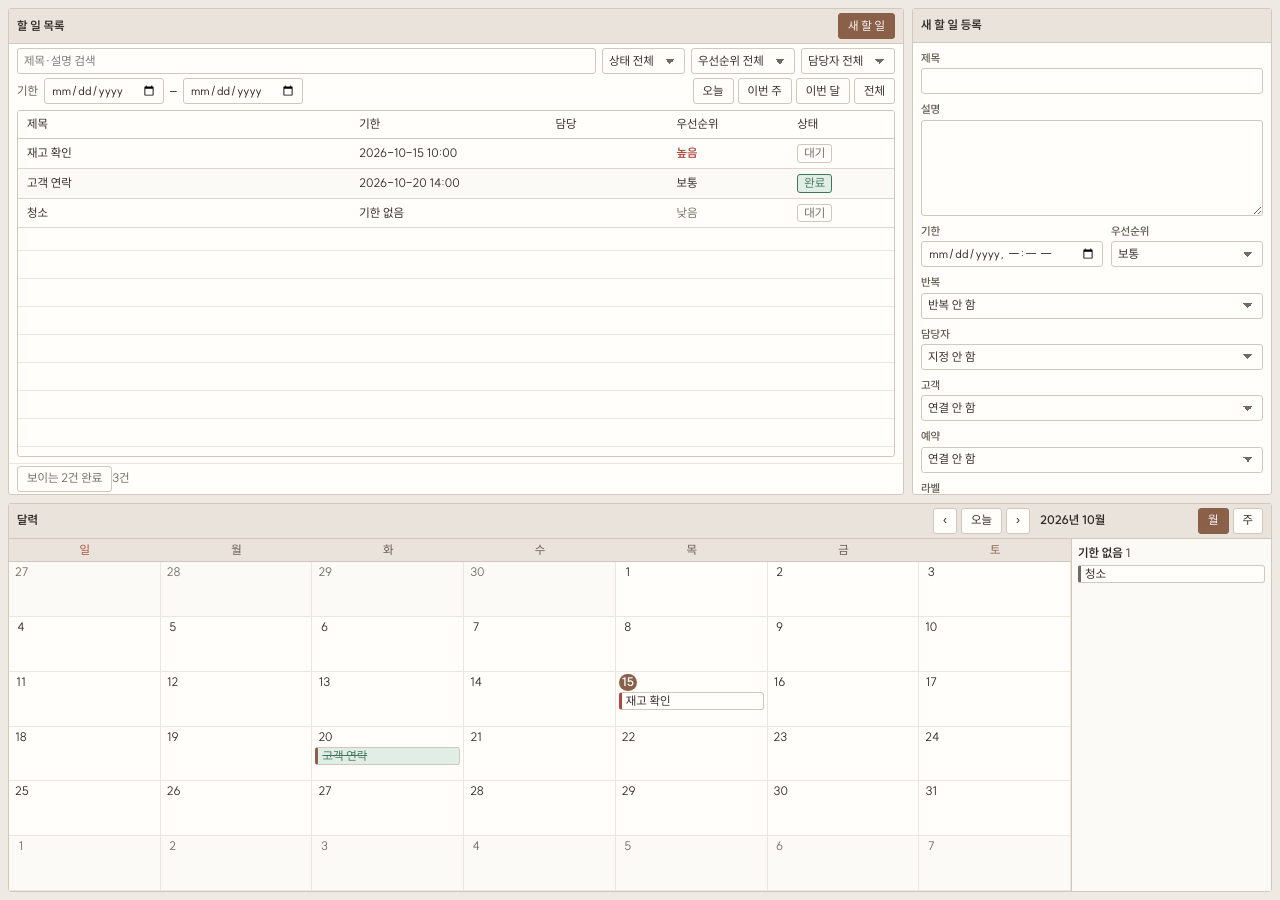
Test: TaskPage 상세 편집 › 작성 중 다른 행을 선택하면 확인을 받고, 취소하면 현재 입력을 유지한다
Check: the text "재고 확인" is shown, box [18,139,350,169]
Type "작성 중" into the field labelled "제목".
click(1092, 81); type("작성 중")  # box [921,68,1263,94]
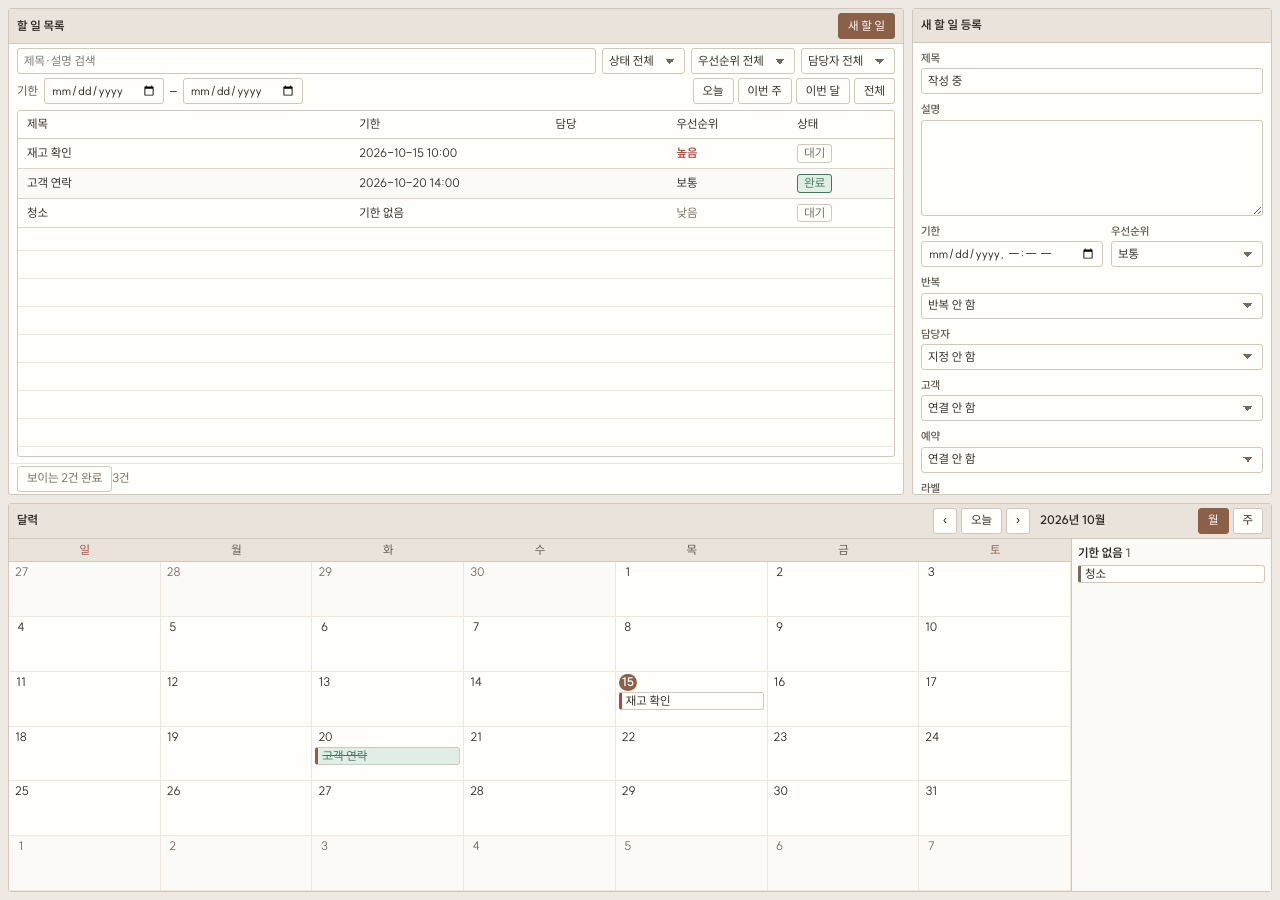
Click the text "청소".
click(184, 214)  # box [18,199,350,228]
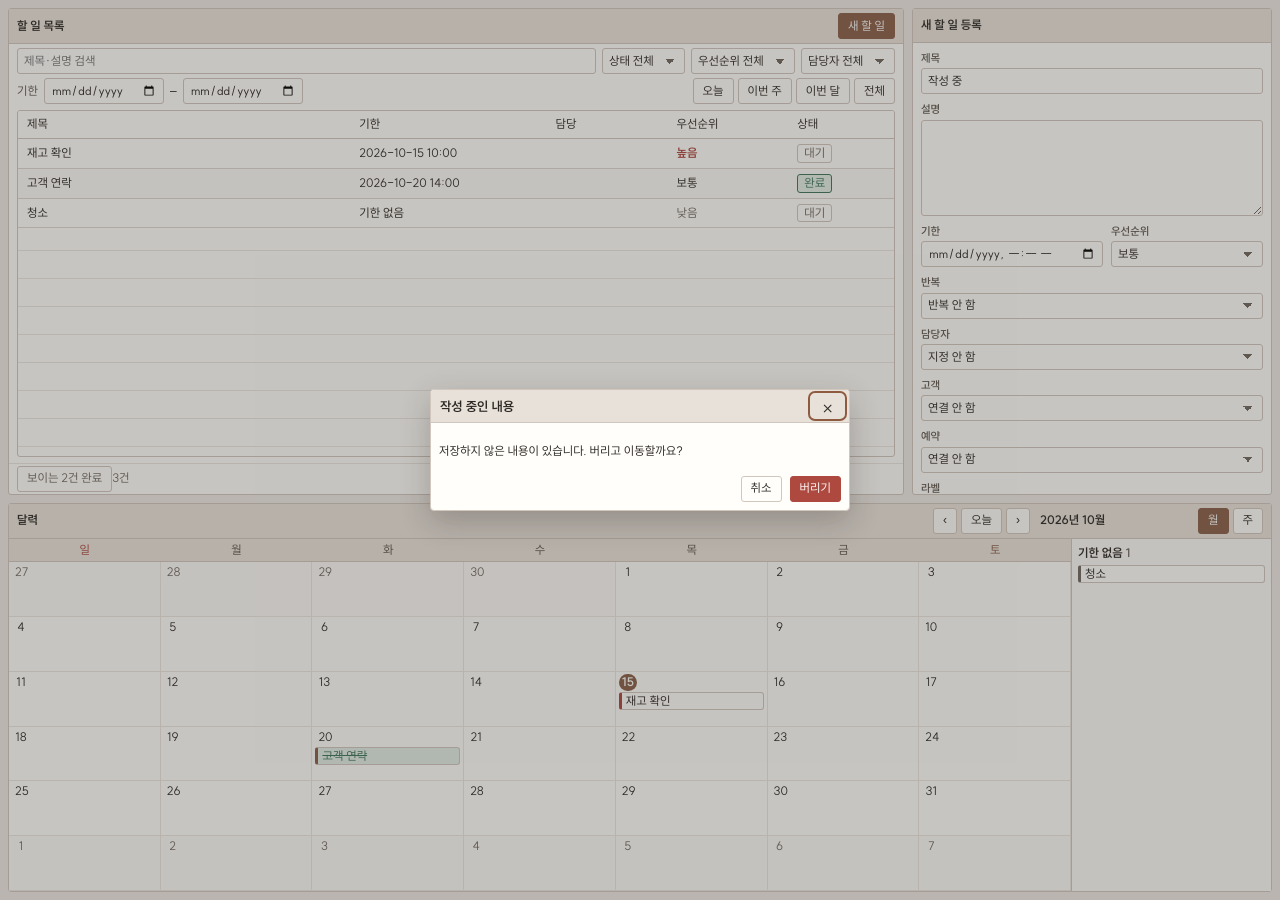
Click the button "취소".
click(761, 489)  # box [740,476,782,502]
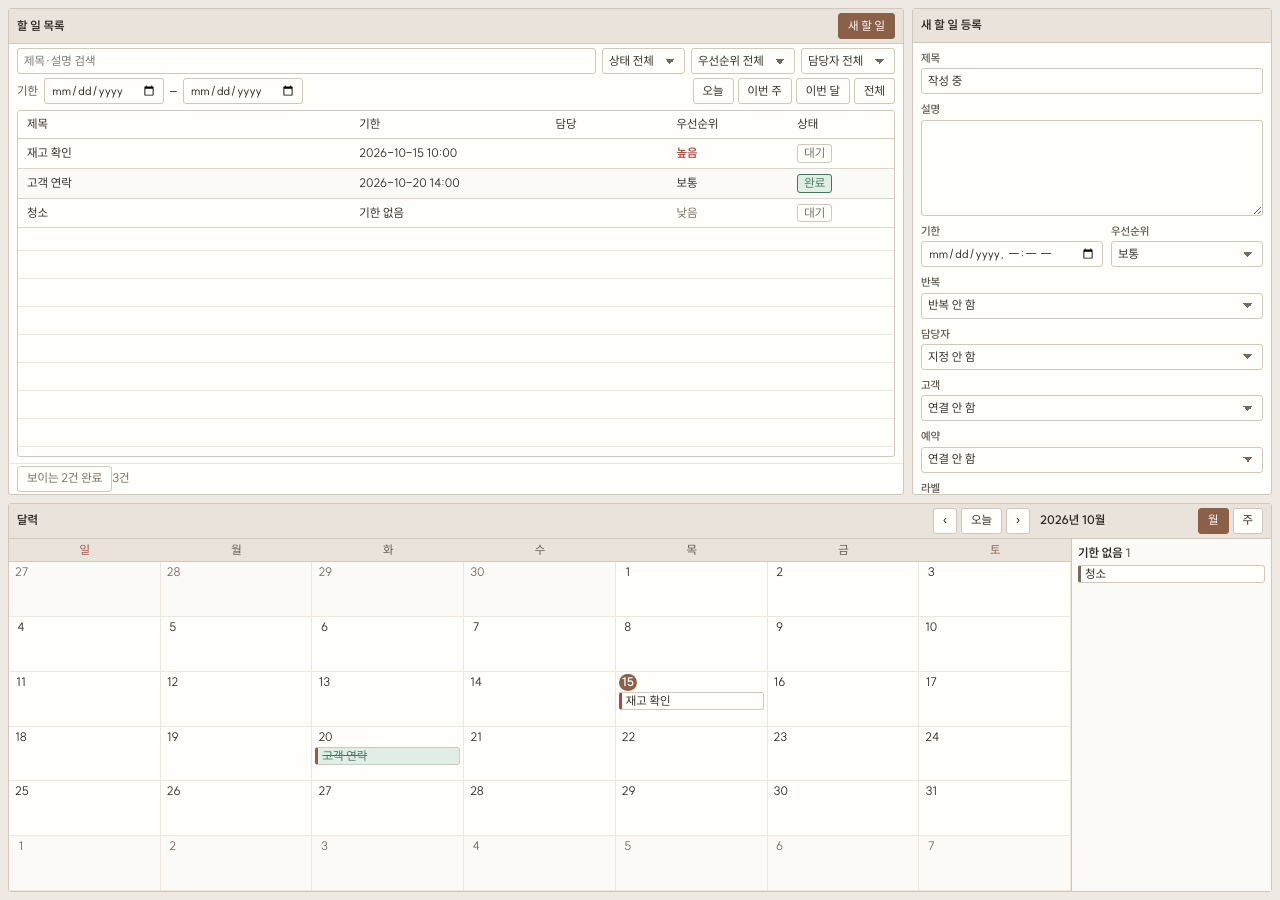
Check: the dialog is gone
Click the text "청소".
click(184, 214)  # box [18,199,350,228]
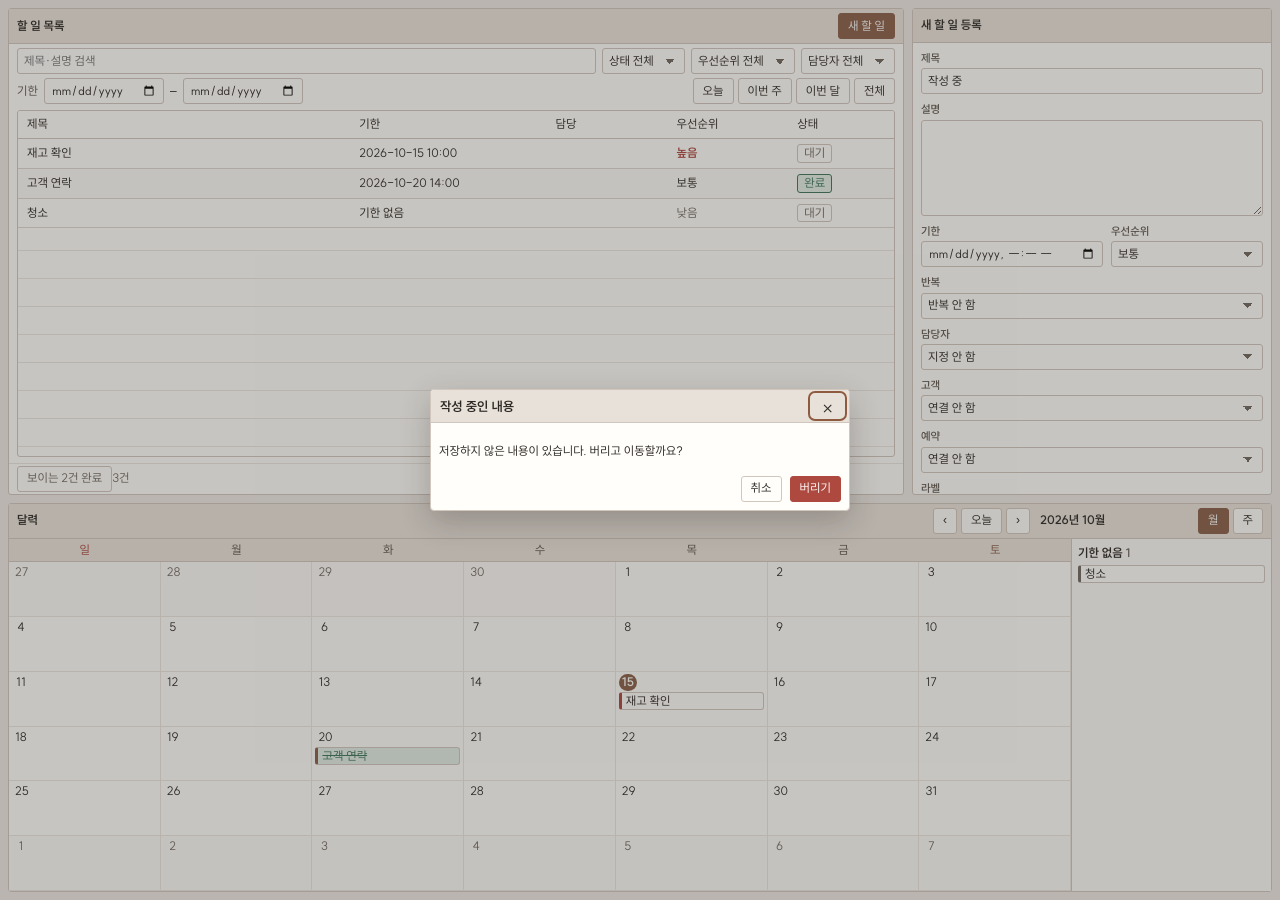
Click the button "버리기".
click(815, 489)  # box [790,476,841,502]
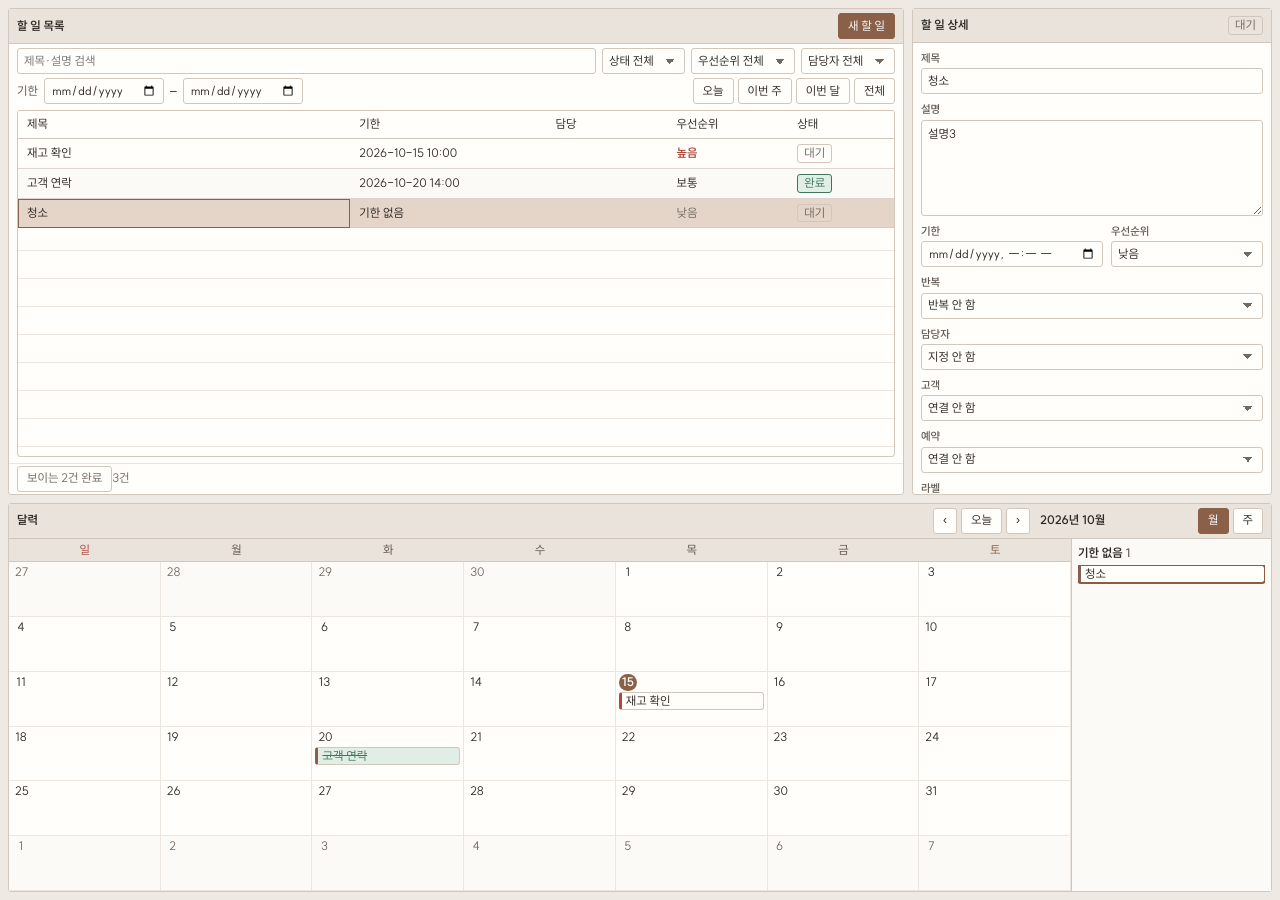
Check: the field labelled "제목" holds "청소", box [921,68,1263,94]
